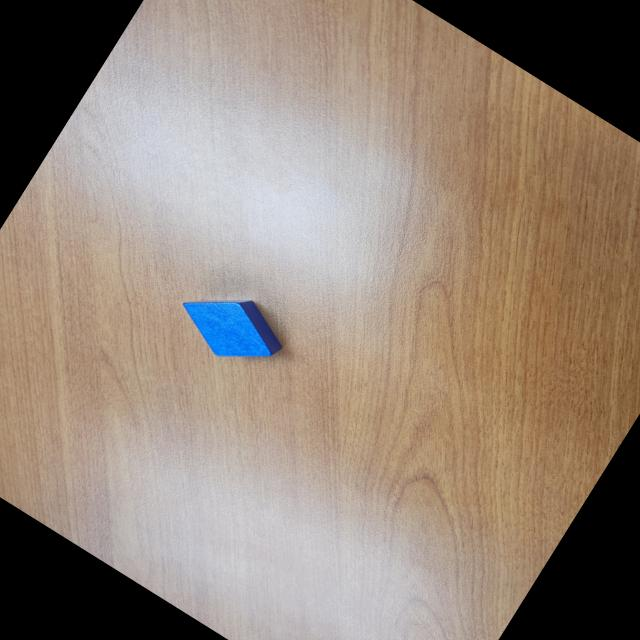blue: (166, 270, 294, 384)
